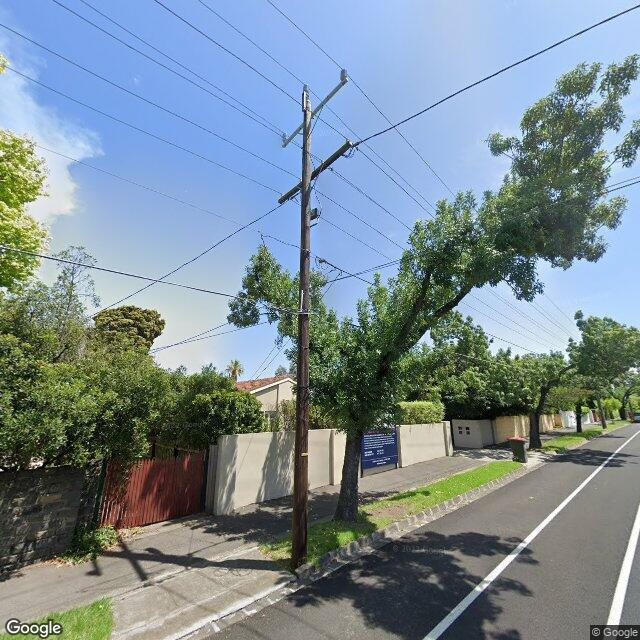HV-transmission: (282, 68, 347, 142)
crossarm: (282, 77, 348, 148), (278, 141, 352, 204)
timber-pole: (290, 92, 312, 569)
